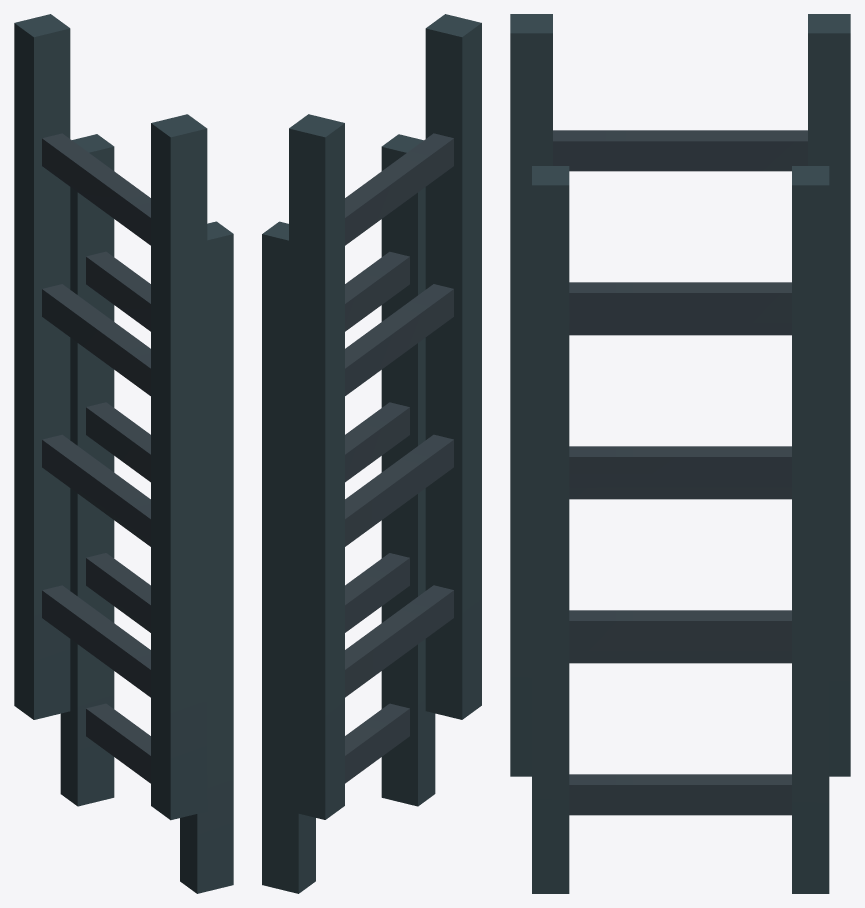
Rendered from FireEscape_B_4.fbx.
The picture shows the model from 3 angles, left to right: view 1: azimuth 30°, elevation 25°; view 2: azimuth 150°, elevation 25°; view 3: azimuth 270°, elevation 25°; orthographic projection. The views are drawn at different scales.
Parts seen in each view (by area): view 1: FireEscape_B_4; view 2: FireEscape_B_4; view 3: FireEscape_B_4.
Part boxes in pixels (box(x1,y1,x2,y2)): FireEscape_B_4: box(14, 14, 233, 893); FireEscape_B_4: box(262, 14, 481, 893); FireEscape_B_4: box(510, 14, 850, 893).
Bounding box in the file's own units: 18.51 × 187 × 68.63.
